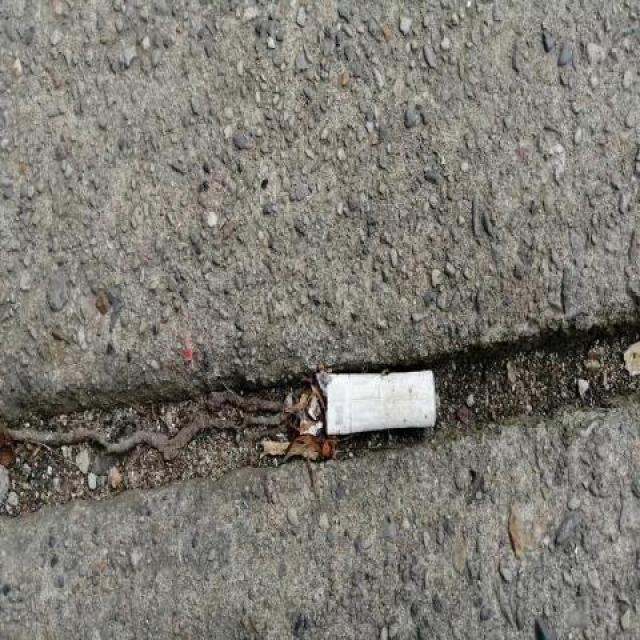non-organic waste: (309, 362, 444, 438)
